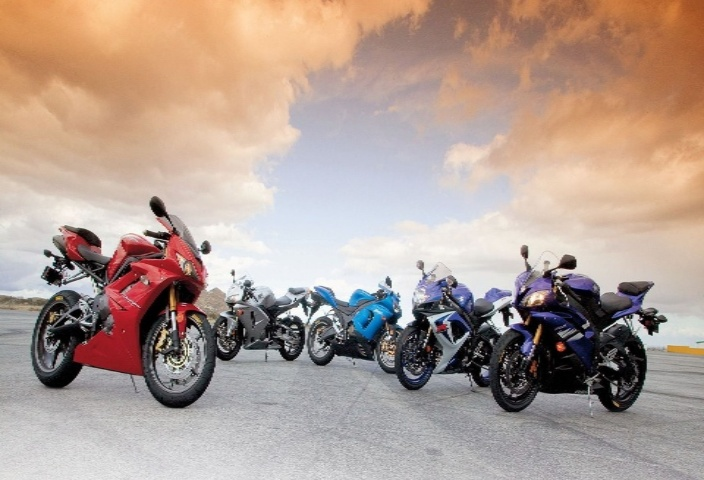motorcycle: (27, 190, 222, 414), (499, 246, 662, 420), (385, 249, 515, 398), (211, 267, 315, 366), (298, 280, 406, 371)
